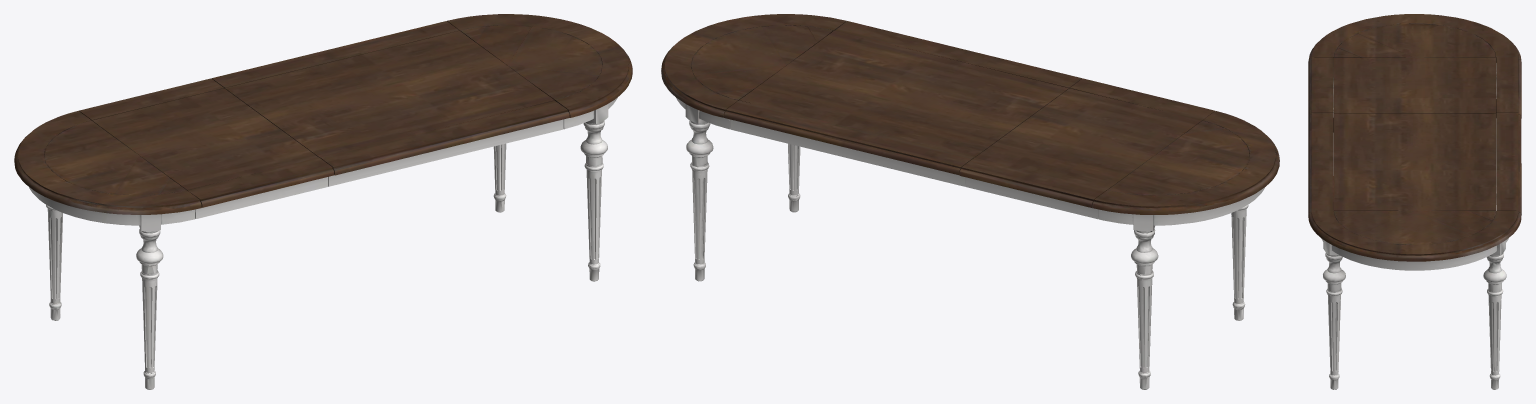
The picture shows the model from 3 angles, left to right: view 1: azimuth 30°, elevation 25°; view 2: azimuth 150°, elevation 25°; view 3: azimuth 270°, elevation 25°; orthographic projection. The views are drawn at different scales.
Parts seen in each view (by area): view 1: solid_001; view 2: solid_001; view 3: solid_001.
Part boxes in pixels (x1=…): solid_001: x1=14, y1=14, x2=632, y2=389; solid_001: x1=661, y1=14, x2=1279, y2=389; solid_001: x1=1308, y1=14, x2=1521, y2=389.
Size of the model in its own units: 2 by 0.6194 by 0.7415.
Materials: 1 (1 with a texture image).
